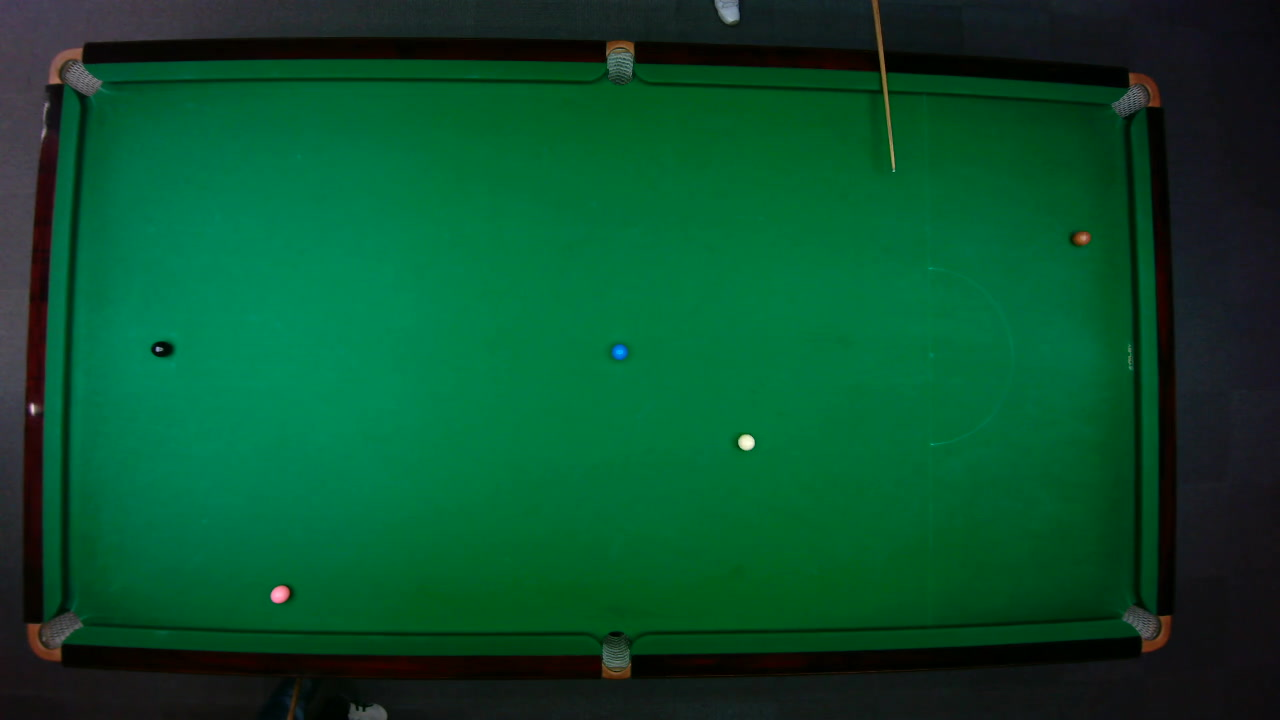bag: (25, 609, 84, 661), (46, 46, 102, 96), (1119, 603, 1171, 651), (1108, 71, 1161, 118), (601, 629, 630, 680), (605, 39, 633, 85)
black: (149, 339, 171, 357)
blue: (610, 342, 628, 360)
brown: (1071, 229, 1091, 246)
cue: (871, 0, 895, 174)
pink: (268, 583, 290, 604)
white: (736, 432, 755, 451)
zone: (927, 266, 1013, 445)
